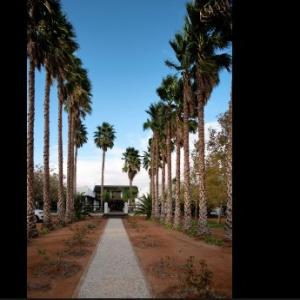palm tree: (93, 121, 116, 210), (121, 146, 141, 210)
